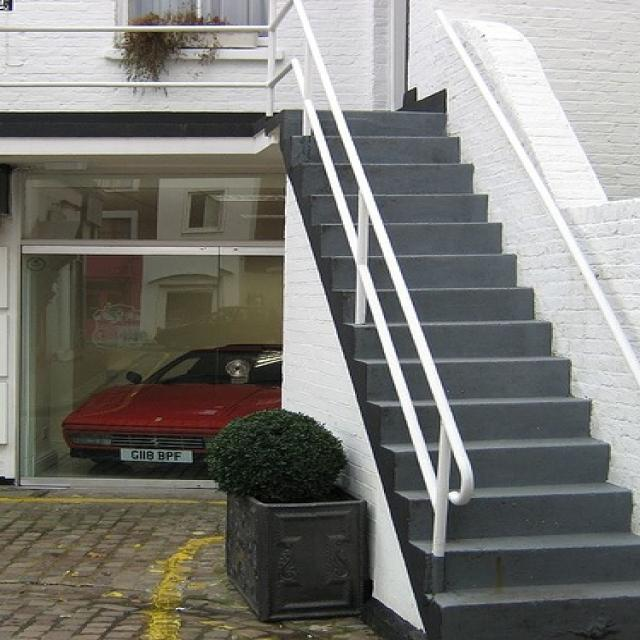car: (63, 344, 283, 468)
